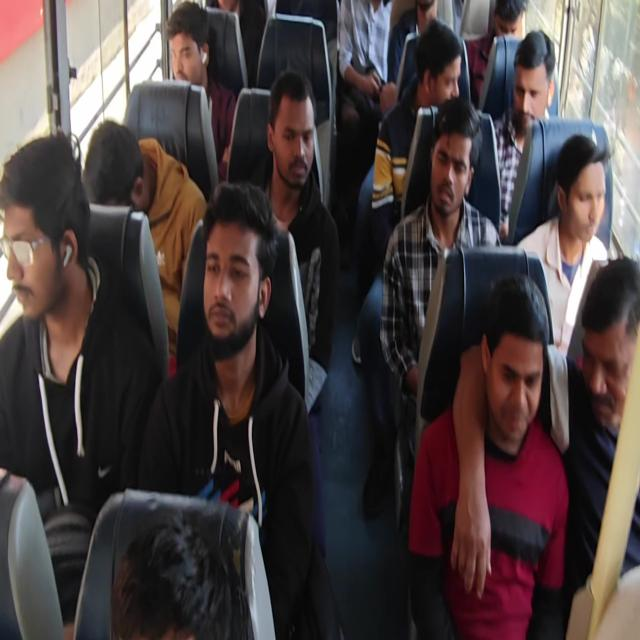person: (0, 1, 639, 638), (137, 180, 337, 638), (0, 129, 162, 632), (451, 255, 639, 614), (407, 272, 570, 638), (379, 96, 502, 460), (82, 118, 208, 376), (251, 68, 340, 415), (516, 133, 610, 362), (370, 19, 462, 247), (110, 511, 254, 639), (491, 29, 556, 239), (165, 1, 237, 181), (337, 0, 397, 129), (466, 0, 528, 108), (386, 0, 438, 99)
